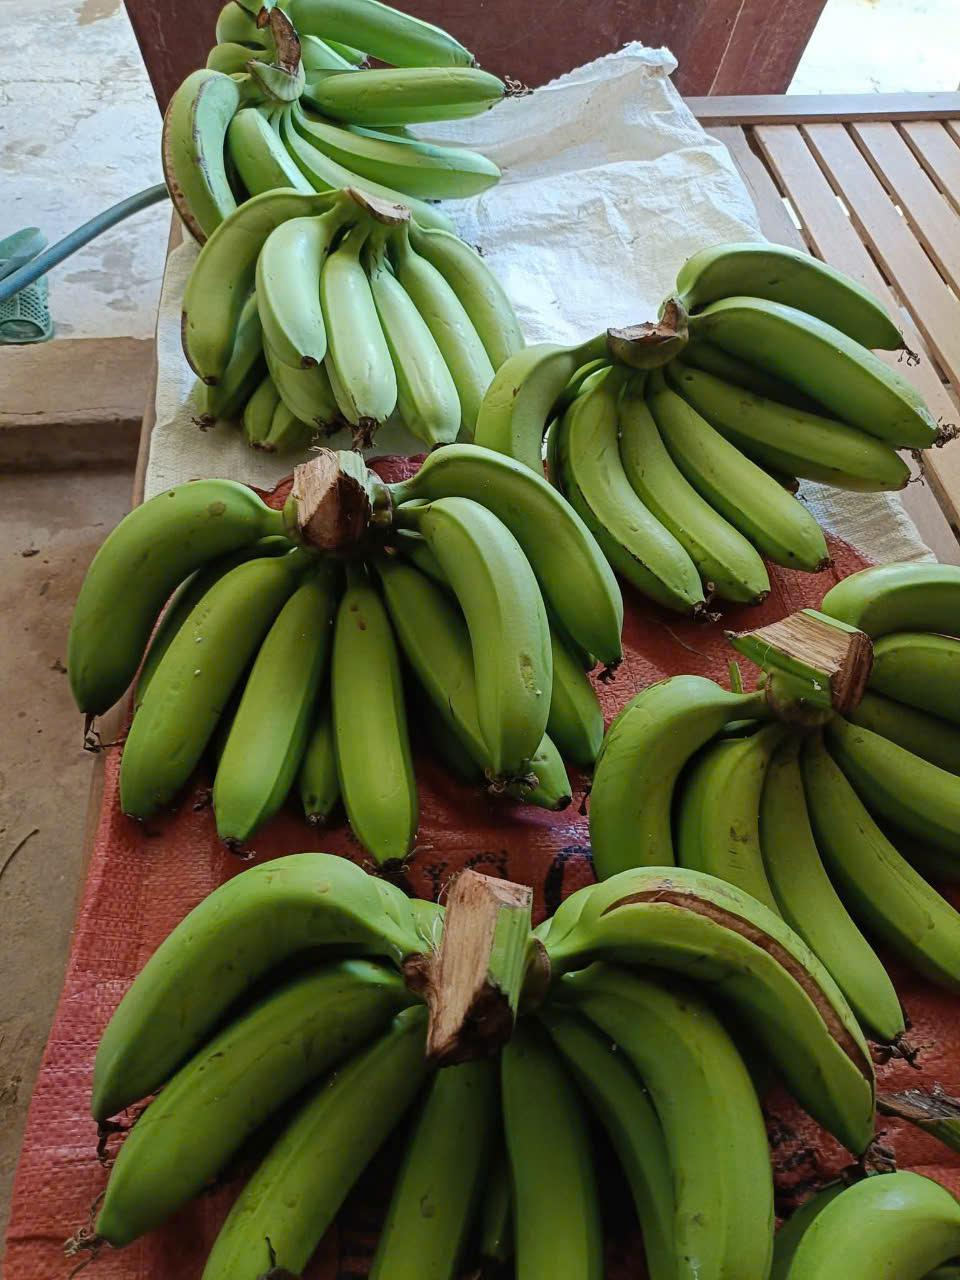banana: (40, 840, 866, 1272), (617, 585, 960, 964), (61, 464, 368, 845), (643, 250, 953, 600), (156, 166, 506, 459), (373, 428, 615, 831), (113, 0, 598, 199)
